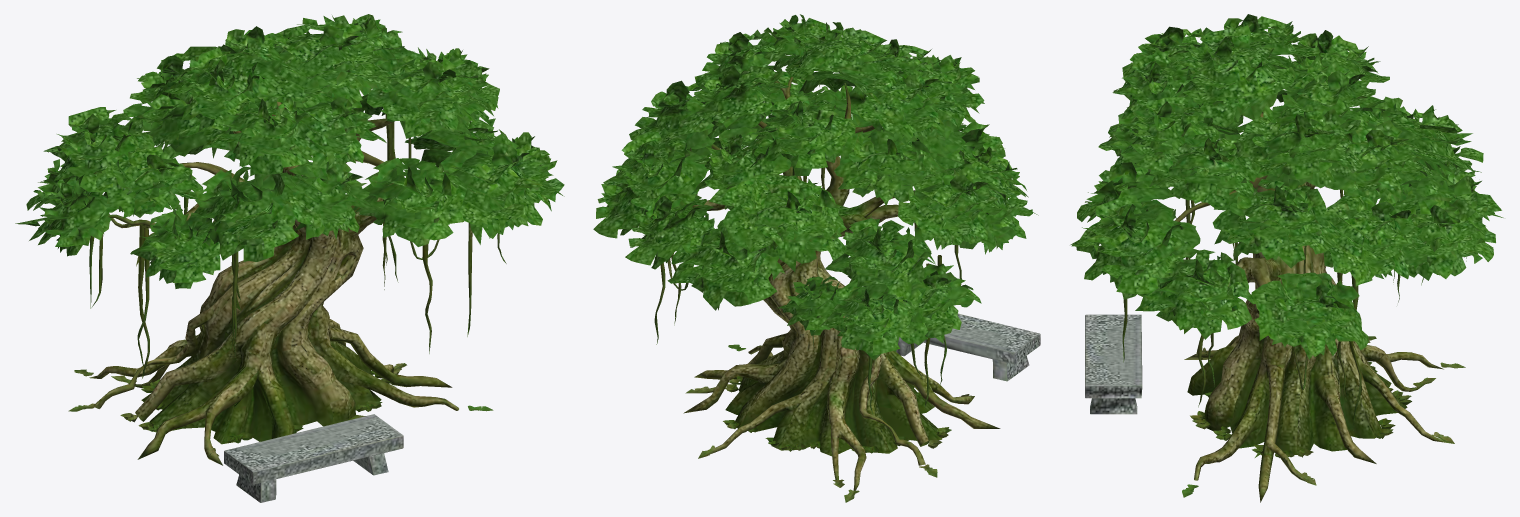
File: station_2.glb
3 views of the same model, side by side, from view 1: azimuth 30°, elevation 25°; view 2: azimuth 150°, elevation 25°; view 3: azimuth 270°, elevation 25° (orthographic). The views are drawn at different scales.
Parts seen in each view (by area): view 1: tripo_node_7564331c-6364-4002-9adf-a086dd0012a6; view 2: tripo_node_7564331c-6364-4002-9adf-a086dd0012a6; view 3: tripo_node_7564331c-6364-4002-9adf-a086dd0012a6.
Part boxes in pixels (x1,y1,x2,y2): tripo_node_7564331c-6364-4002-9adf-a086dd0012a6: (15,14,564,502); tripo_node_7564331c-6364-4002-9adf-a086dd0012a6: (593,14,1040,502); tripo_node_7564331c-6364-4002-9adf-a086dd0012a6: (1070,14,1503,502).
Bounding box in the file's own units: 0.9995 × 0.9029 × 0.896.
1 material, 1 textured.
